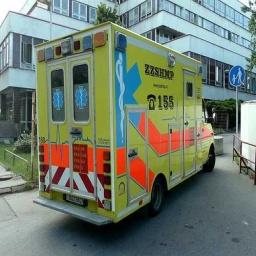Ambulance: (34, 23, 214, 224)
